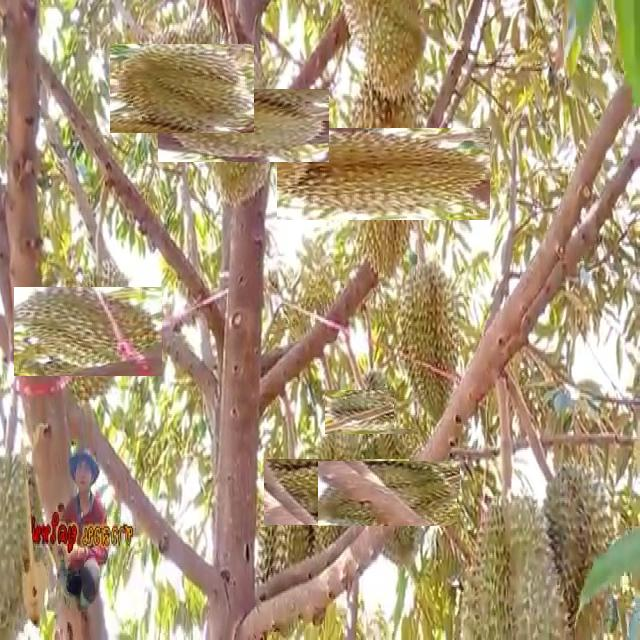durian: (308, 98, 460, 251), (457, 489, 576, 638), (182, 64, 304, 187), (29, 272, 148, 391), (542, 458, 620, 636), (123, 30, 241, 146), (394, 256, 464, 430), (250, 460, 316, 634), (284, 439, 389, 544), (337, 441, 441, 545), (331, 0, 431, 95), (338, 377, 406, 447)
